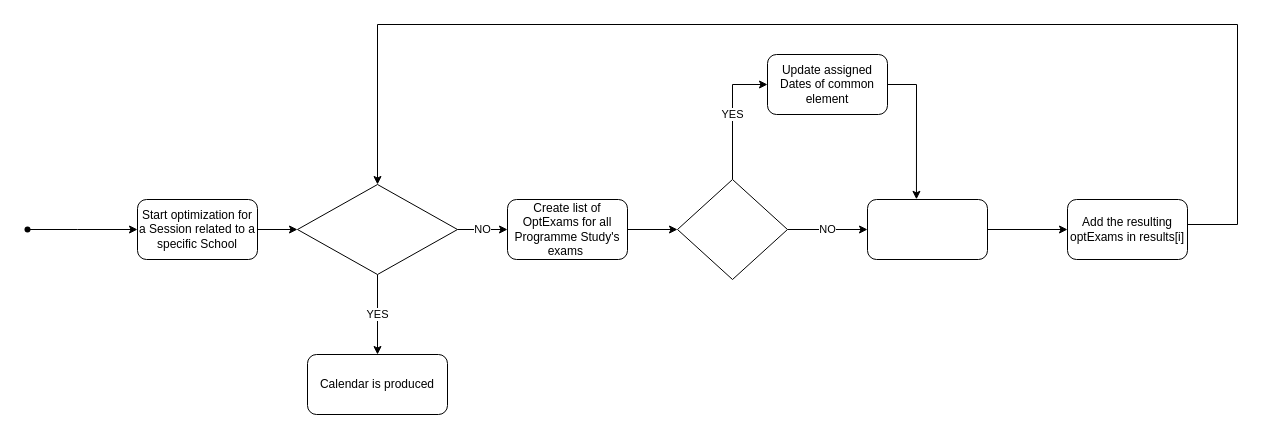
Image size: 1263x432. Some labels were removed from this diagram. Here are the shapes that lost their labels. From the top down, the centre of each, then its label:
pixel 377 229: Have all the ProgrammeStudy in the school been scheduled?
pixel 732 229: Are there elements in Results[i-1]?
pixel 927 229: Solve Scheduling for all optExam for ProgrammeStudy[i]
